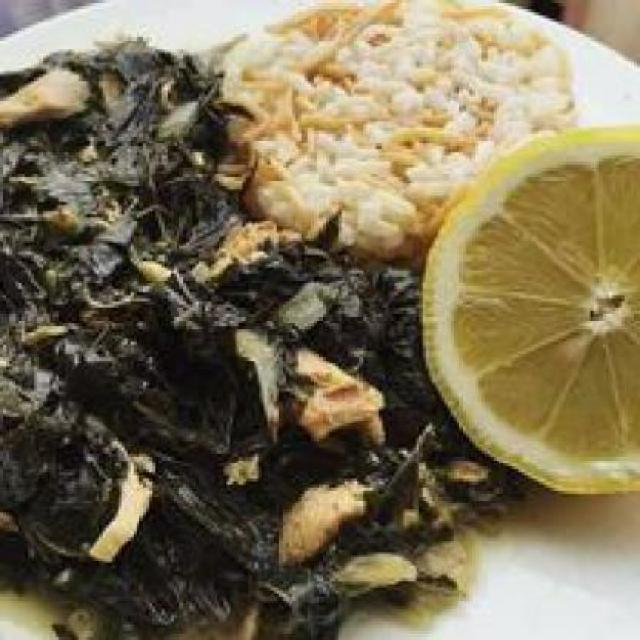molokhia: (3, 3, 420, 637)
